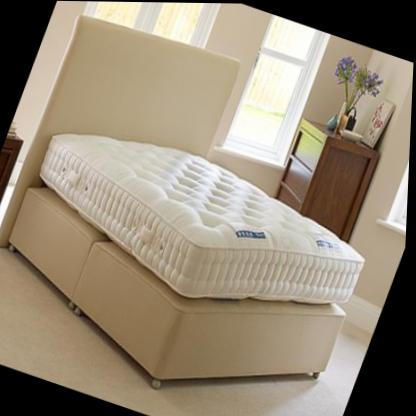Bed: (9, 15, 368, 382)
